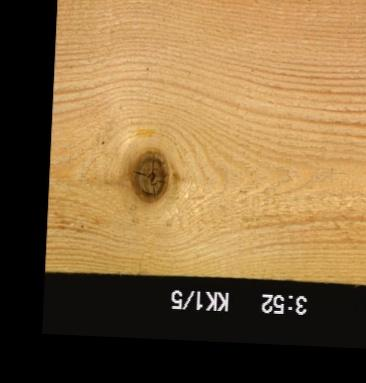sound_knot: (129, 147, 171, 203)
